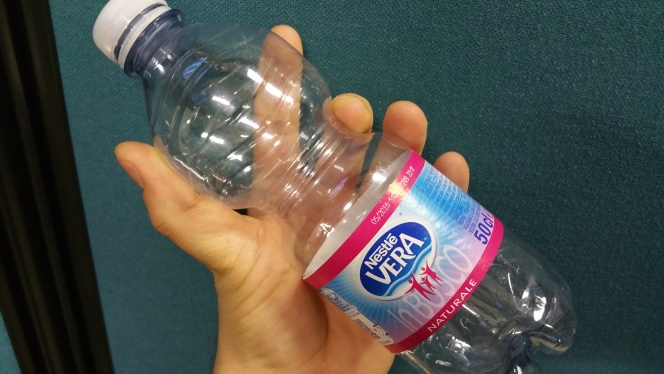bottle: (87, 2, 583, 370)
